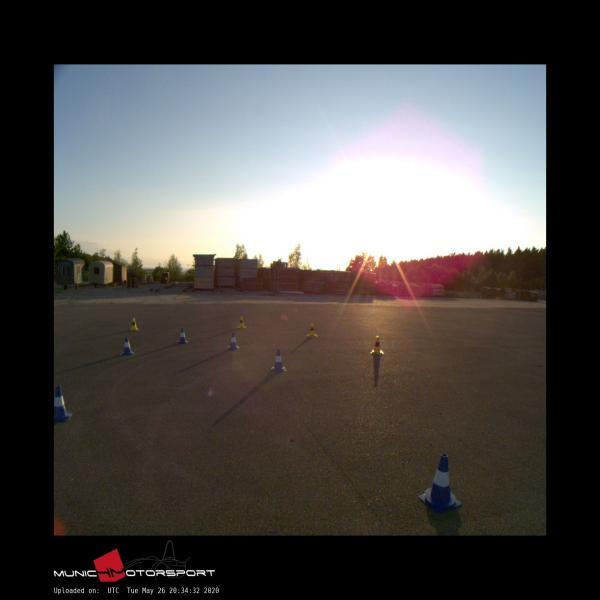blue_cone: (419, 454, 462, 514), (54, 385, 72, 422), (272, 350, 286, 372), (120, 337, 134, 354), (227, 332, 239, 349), (177, 329, 188, 343)
yellow_cone: (370, 336, 384, 353), (306, 322, 318, 337), (236, 315, 246, 328), (130, 318, 138, 330)
